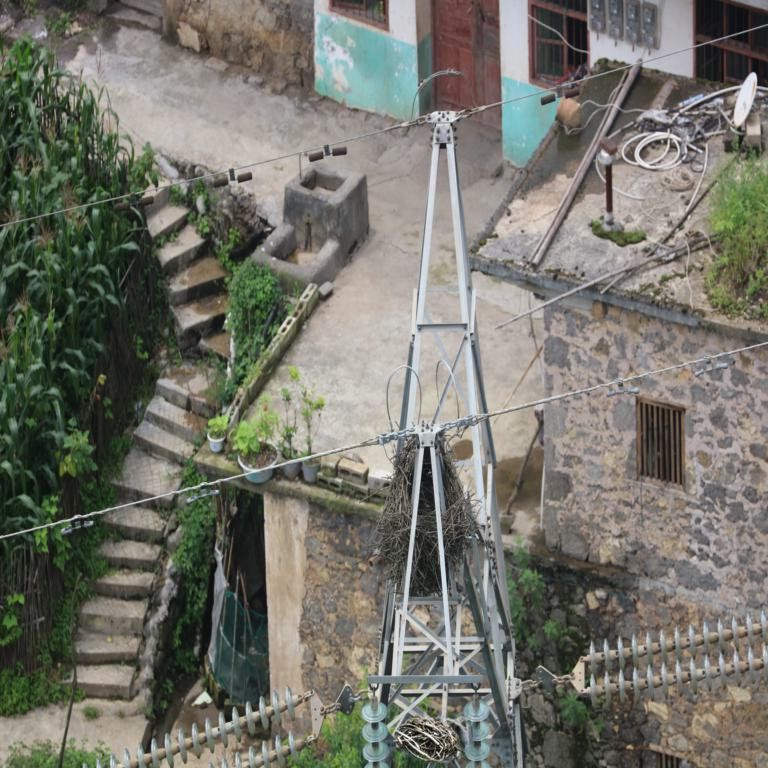nest: (389, 444, 467, 591), (394, 715, 458, 762)
